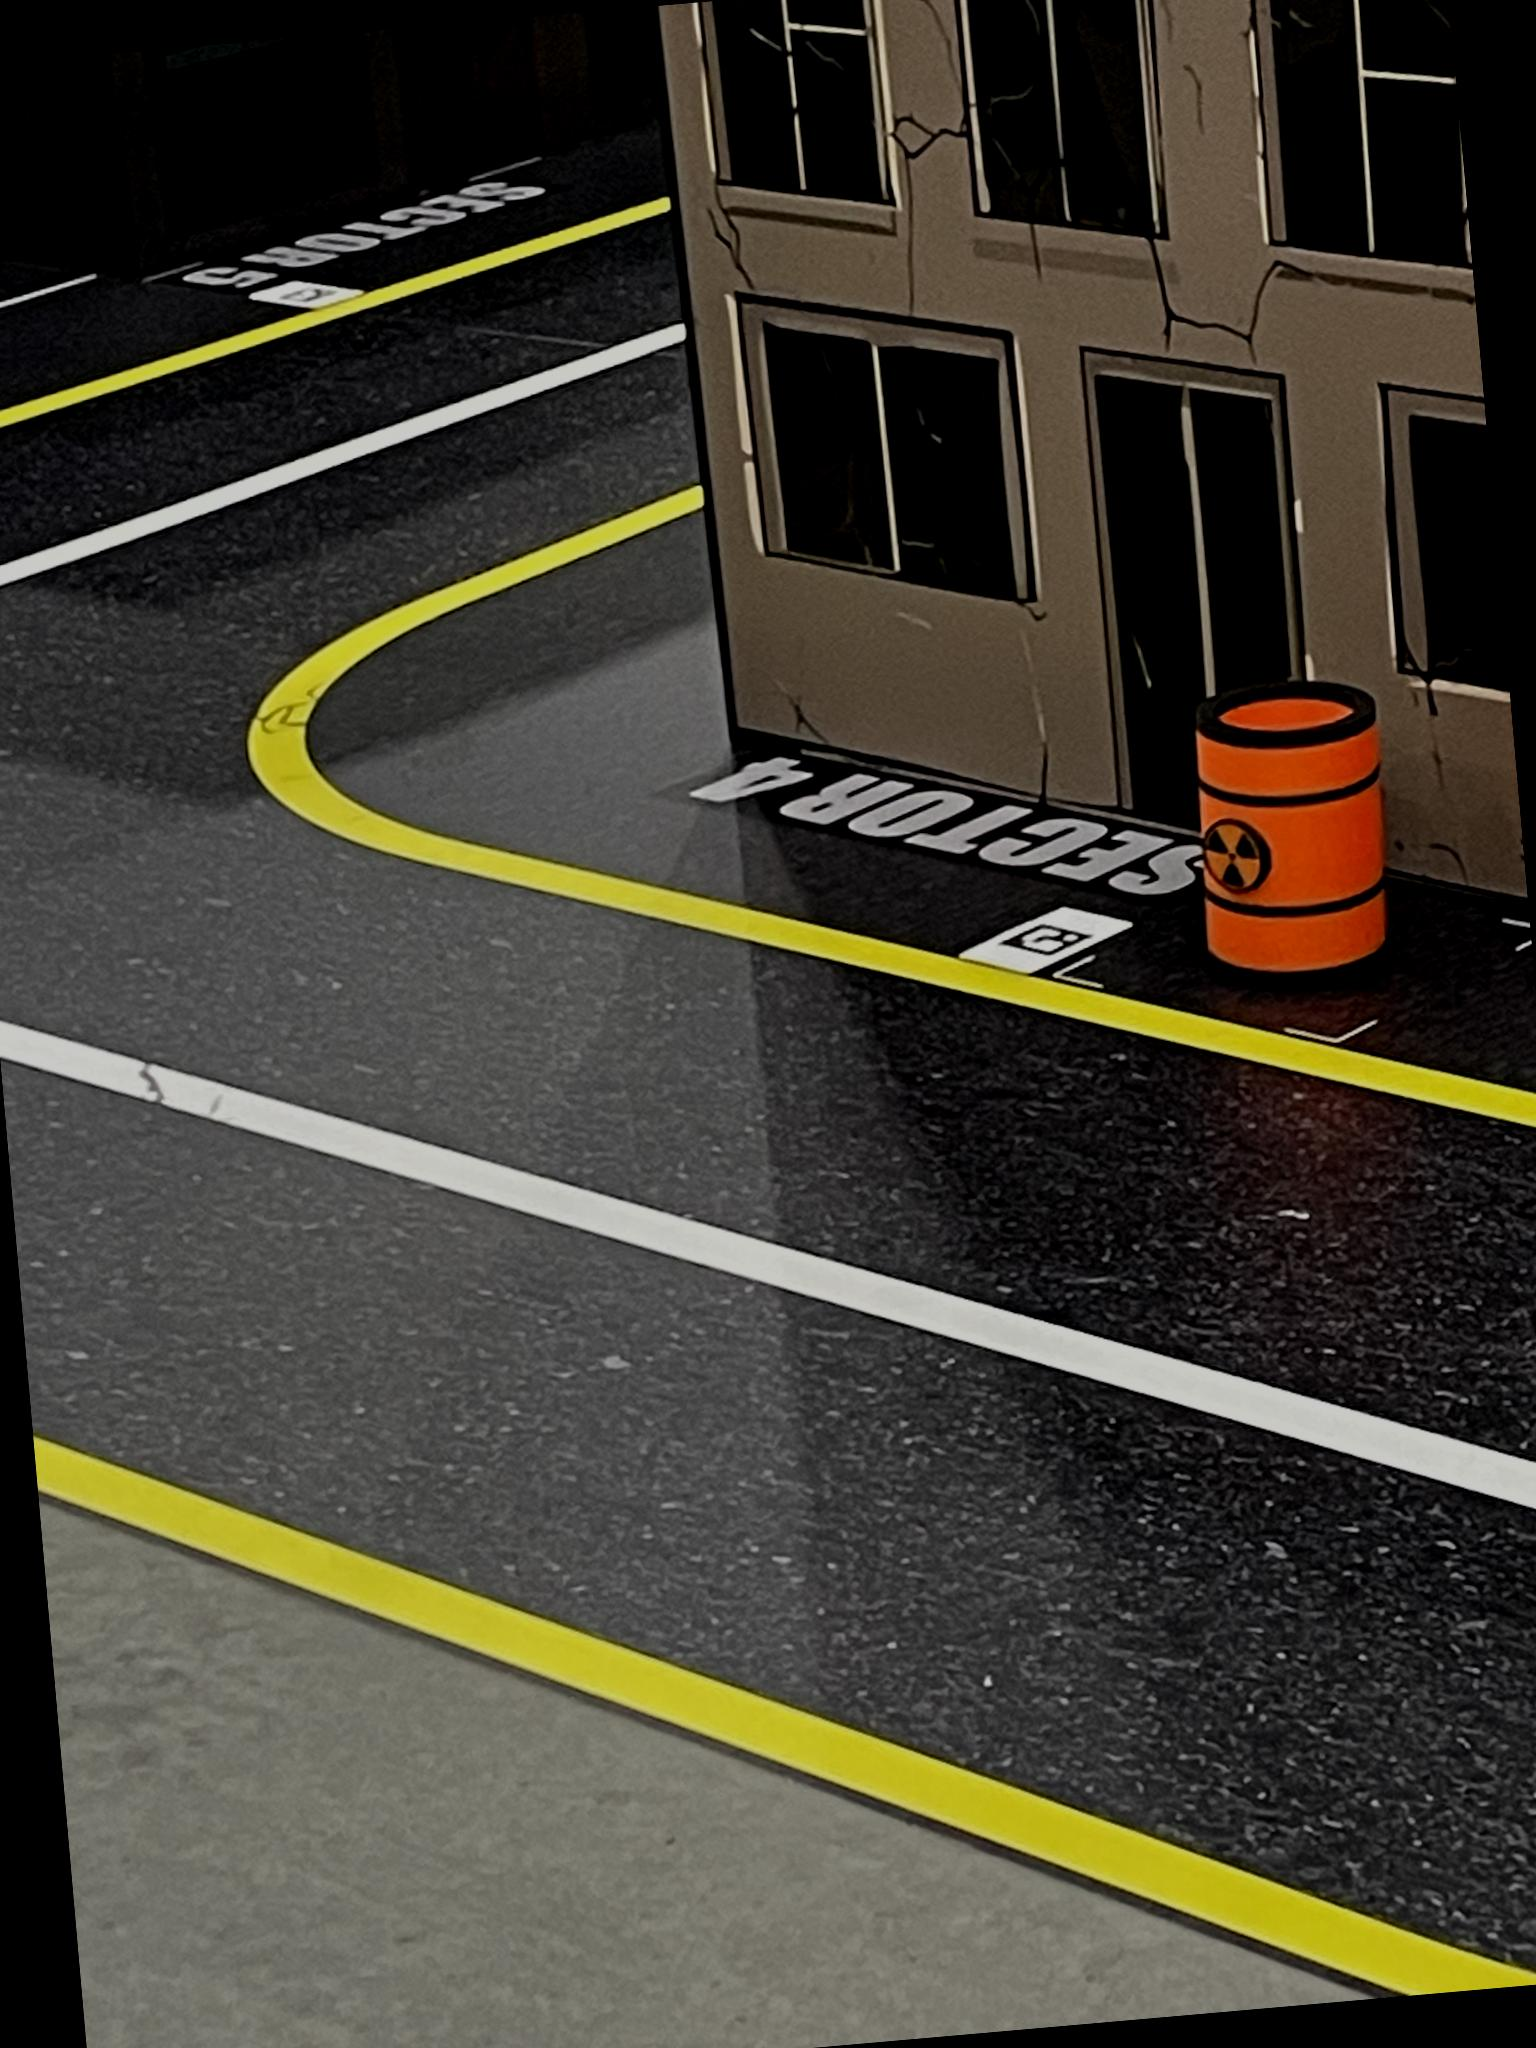Hazmat: (1173, 672, 1410, 1011)
